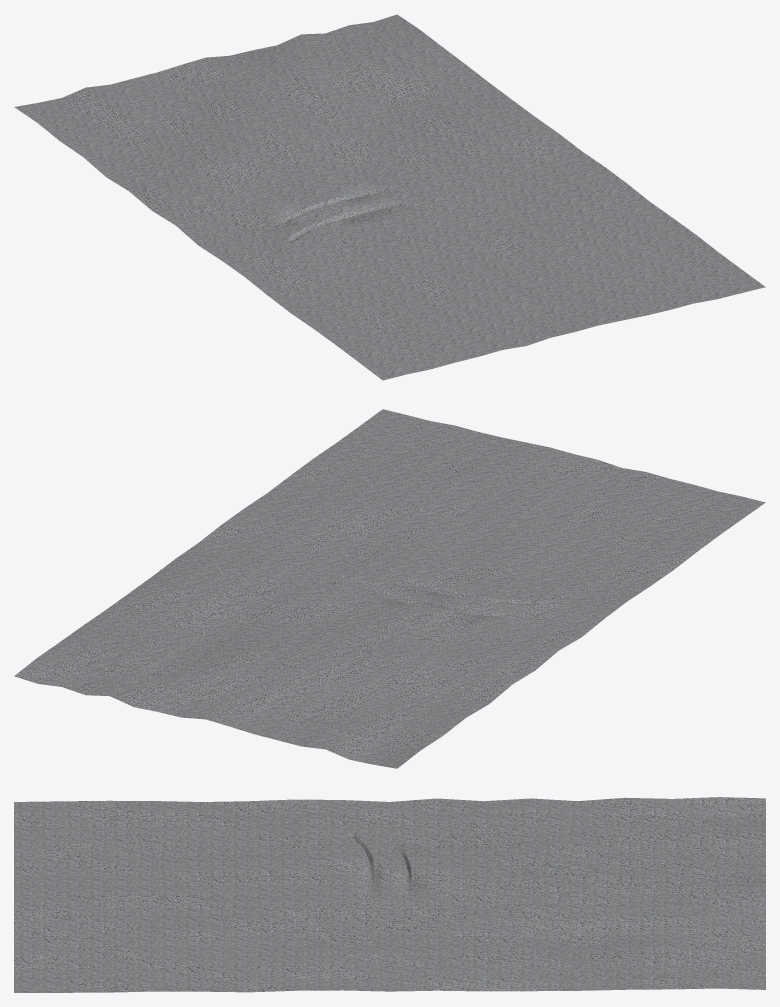
File: am-env-groundPlane.glb
The picture shows the model from 3 angles, top to bottom: view 1: azimuth 30°, elevation 25°; view 2: azimuth 150°, elevation 25°; view 3: azimuth 270°, elevation 25°; orthographic projection.
Visible parts, largest first — view 1: ground-plane-gravel; view 2: ground-plane-gravel; view 3: ground-plane-gravel.
Boxes of the visible parts, x1,y1,x2,y2 form: ground-plane-gravel: (14,14,765,380); ground-plane-gravel: (14,409,765,768); ground-plane-gravel: (14,797,765,992).
Size of what is drawn, in the model's own units: 18 by 0.3894 by 30.
1 material, 1 textured.
